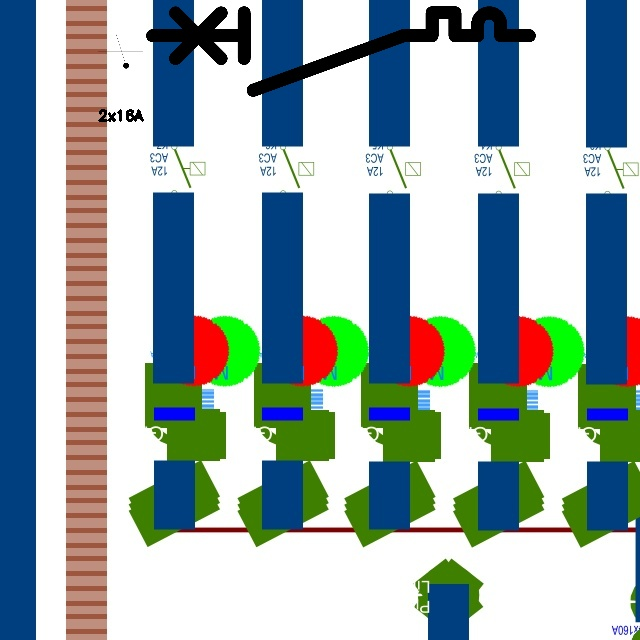interruptor_termomagnetico: (142, 3, 538, 100)
